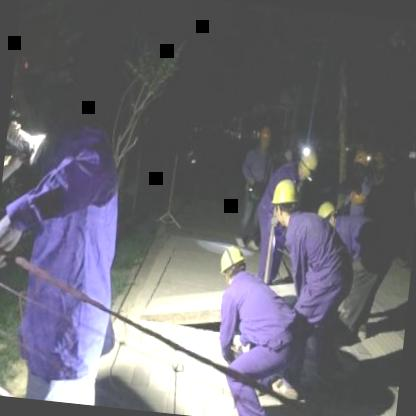helmet: (268, 174, 300, 232), (216, 241, 250, 284), (294, 144, 321, 186), (314, 200, 342, 232)
